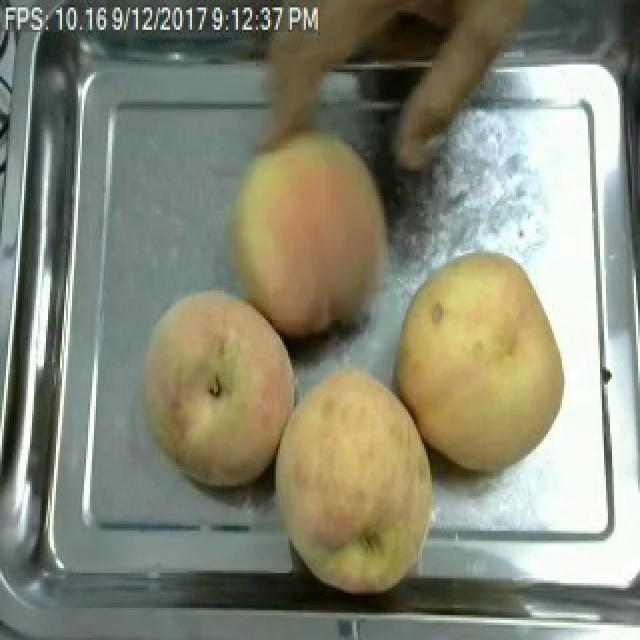Fruit: (262, 352, 448, 606), (382, 243, 576, 476), (214, 119, 398, 350), (132, 280, 308, 494)
